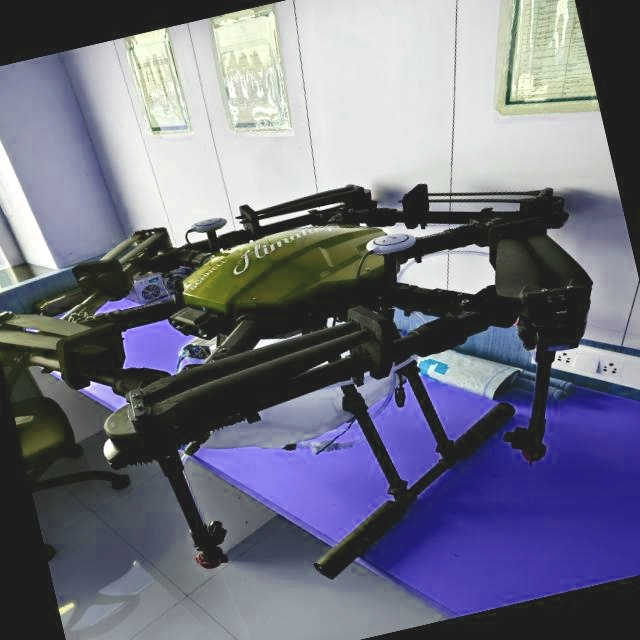agriculturedrone: (0, 125, 640, 640)
